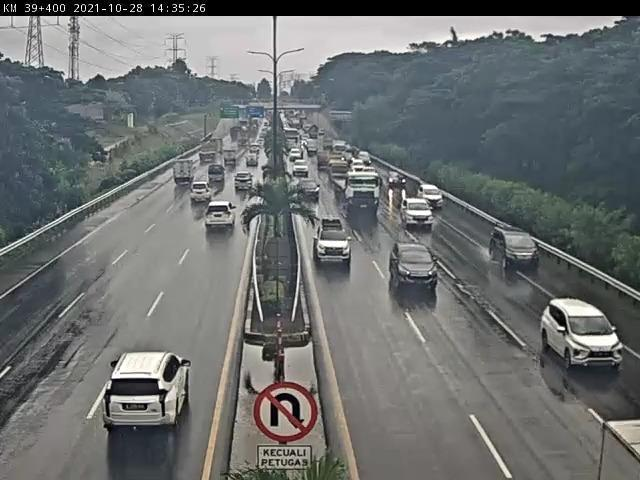car: (83, 347, 201, 445), (534, 289, 633, 379), (386, 239, 445, 296), (485, 224, 545, 274), (312, 219, 352, 264), (396, 196, 435, 232), (201, 200, 238, 236), (418, 183, 448, 212), (294, 173, 321, 202), (188, 181, 214, 209), (233, 172, 255, 198)
truck: (597, 414, 640, 480), (331, 168, 379, 212), (170, 158, 196, 189)
